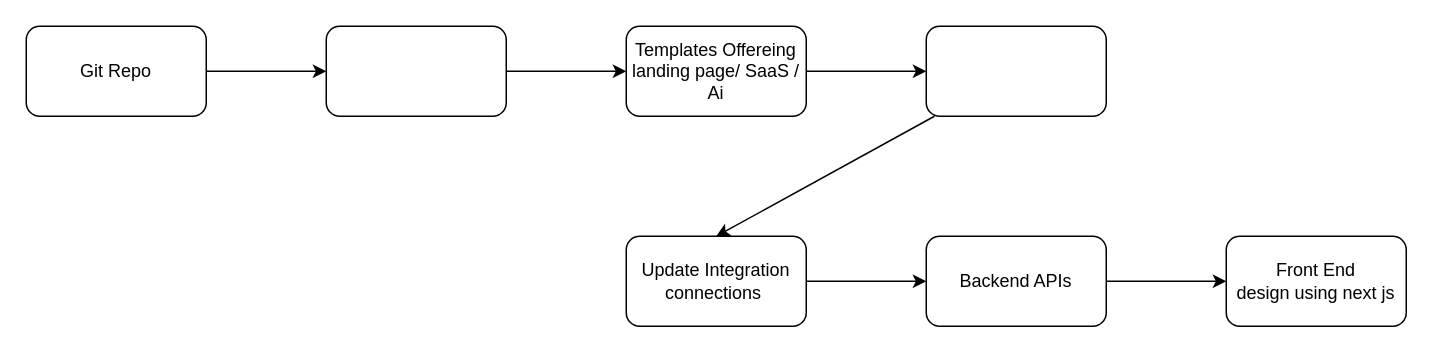
Image size: 1433x353. Some labels were removed from this diagram. Here are the shapes that lost their labels. From the top down, the centre of each, then its label:
At [415,70]: "Git Clone".
At [1015,70]: "Build".
